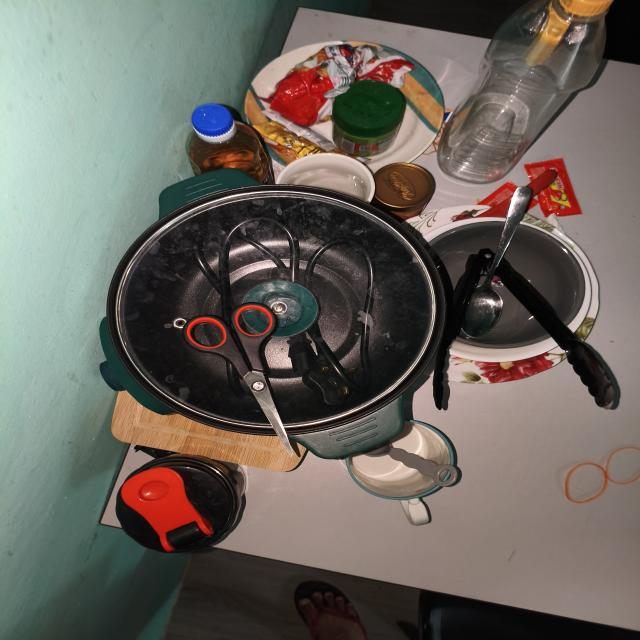scissor: (182, 303, 292, 455)
